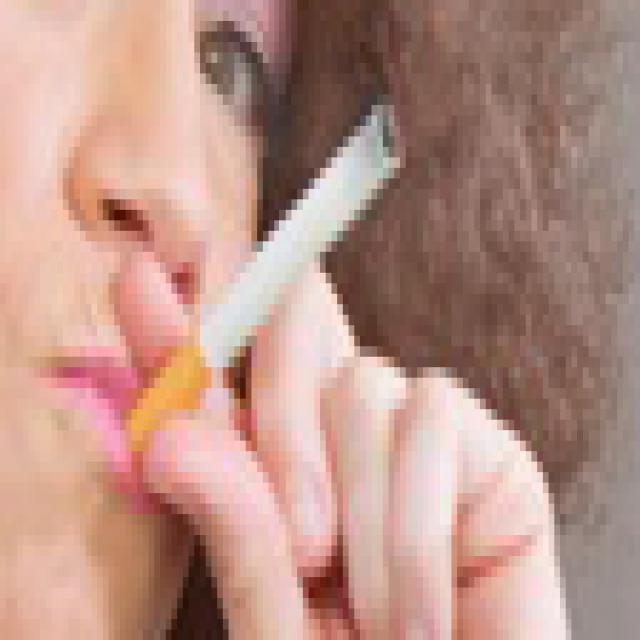smoking: (128, 99, 404, 451)
